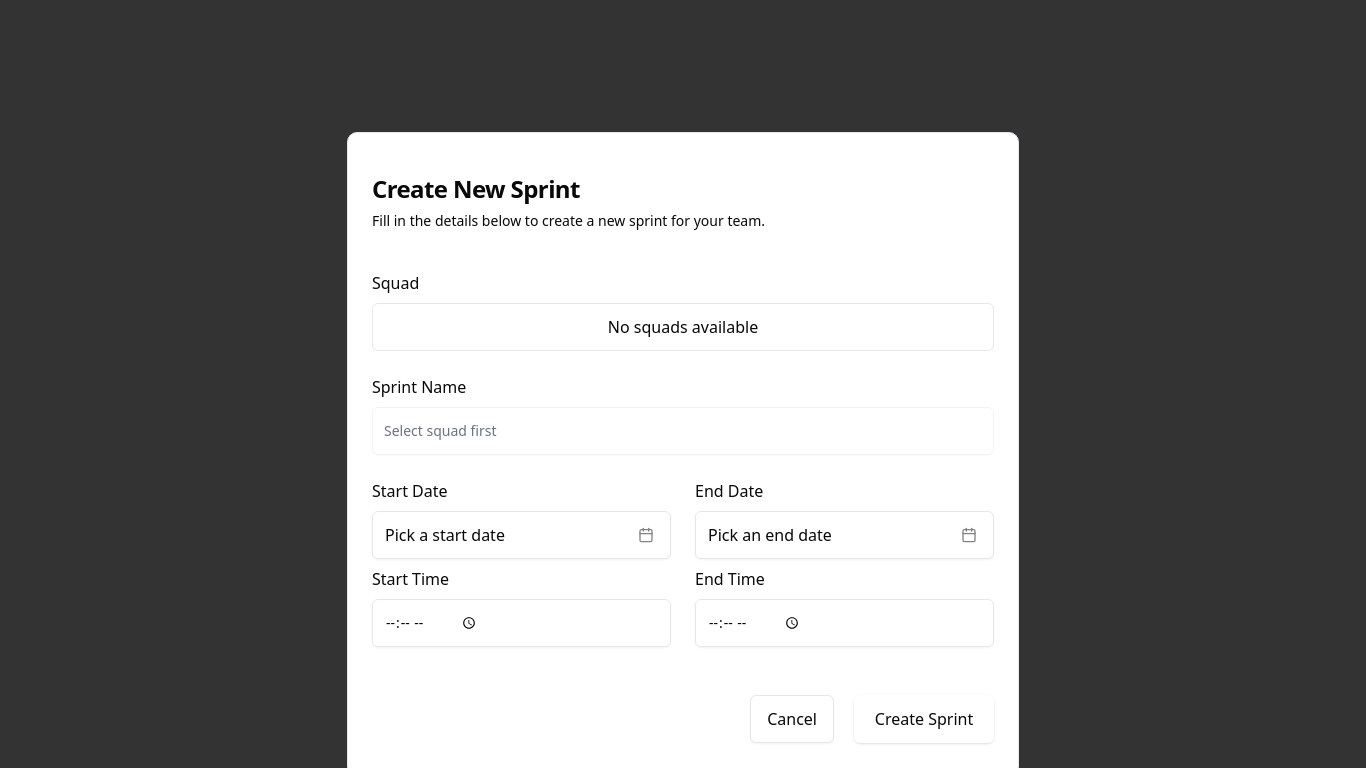
it: SprintCreationDrawer › validates required fields
// Try to submit empty form
Click the button "Create Sprint". click: (924, 719)
box: x1=854 y1=695 x2=994 y2=743
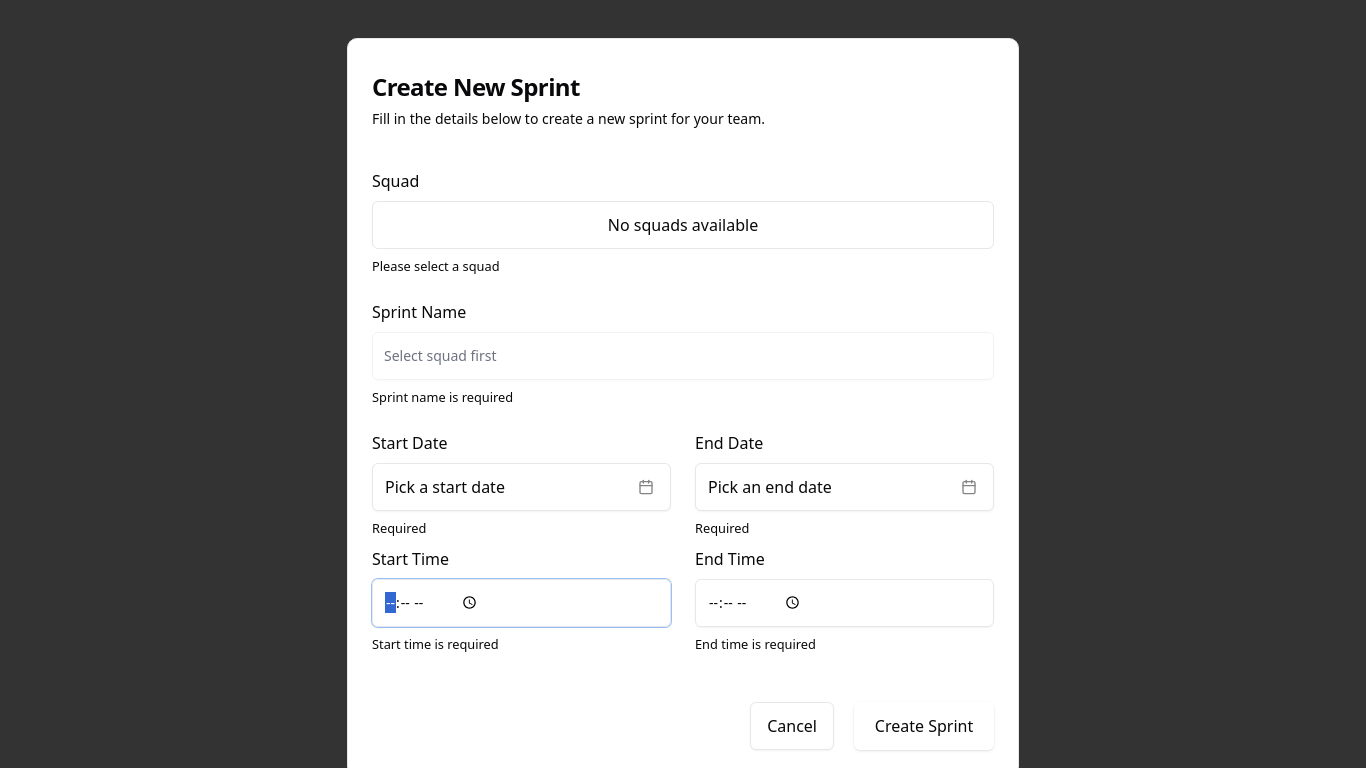
Now the text "Sprint name is required" is shown, box x1=372 y1=389 x2=513 y2=407
Now the text "Please select a squad" is shown, box x1=372 y1=257 x2=500 y2=275
